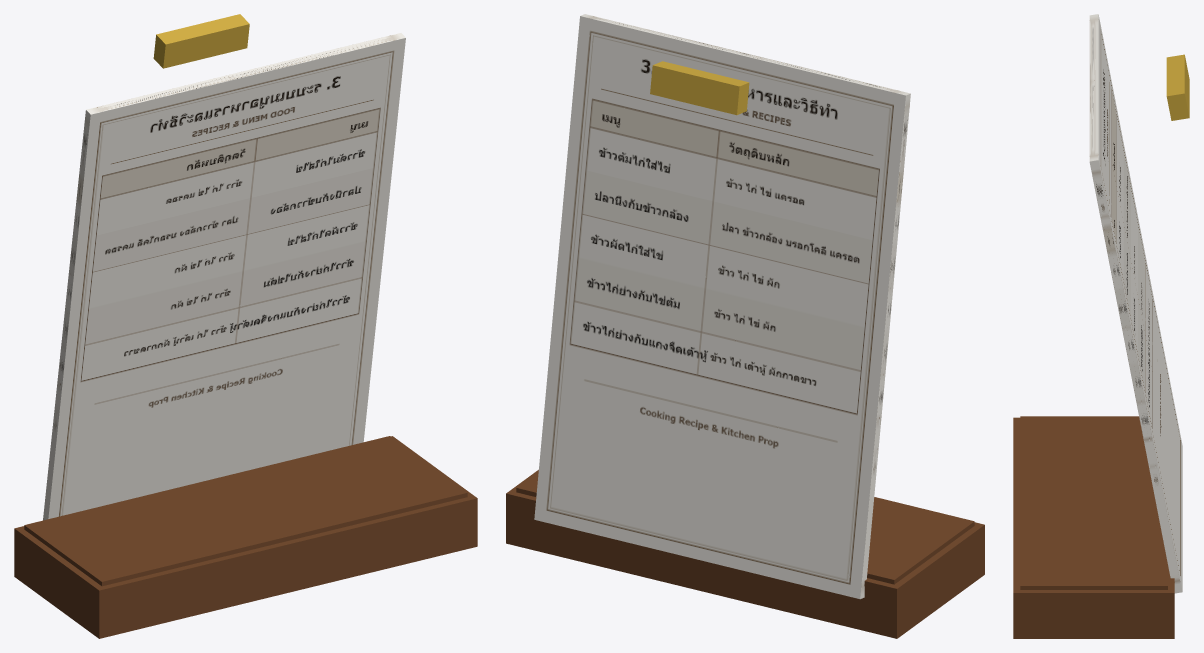
Rendered from FoodMenuStand.obj.
3 views of the same model, side by side, from view 1: azimuth 30°, elevation 25°; view 2: azimuth 150°, elevation 25°; view 3: azimuth 270°, elevation 25° (orthographic). The views are drawn at different scales.
Visible parts, largest first — view 1: Mat_MenuCard, Mat_MenuWood, Mat_MenuBrass; view 2: Mat_MenuCard, Mat_MenuWood, Mat_MenuBrass; view 3: Mat_MenuWood, Mat_MenuCard, Mat_MenuBrass.
Part boxes in pixels (<box>): Mat_MenuCard: <box>43,33,405,520</box>; Mat_MenuWood: <box>14,436,477,638</box>; Mat_MenuBrass: <box>153,14,249,68</box>; Mat_MenuCard: <box>534,14,910,599</box>; Mat_MenuWood: <box>506,469,984,638</box>; Mat_MenuBrass: <box>650,61,749,115</box>; Mat_MenuWood: <box>1013,416,1174,638</box>; Mat_MenuCard: <box>1089,14,1182,593</box>; Mat_MenuBrass: <box>1166,54,1189,120</box>.
Bounding box in the file's own units: 0.18 × 0.2284 × 0.0764.
Materials: 3 (1 with a texture image).
